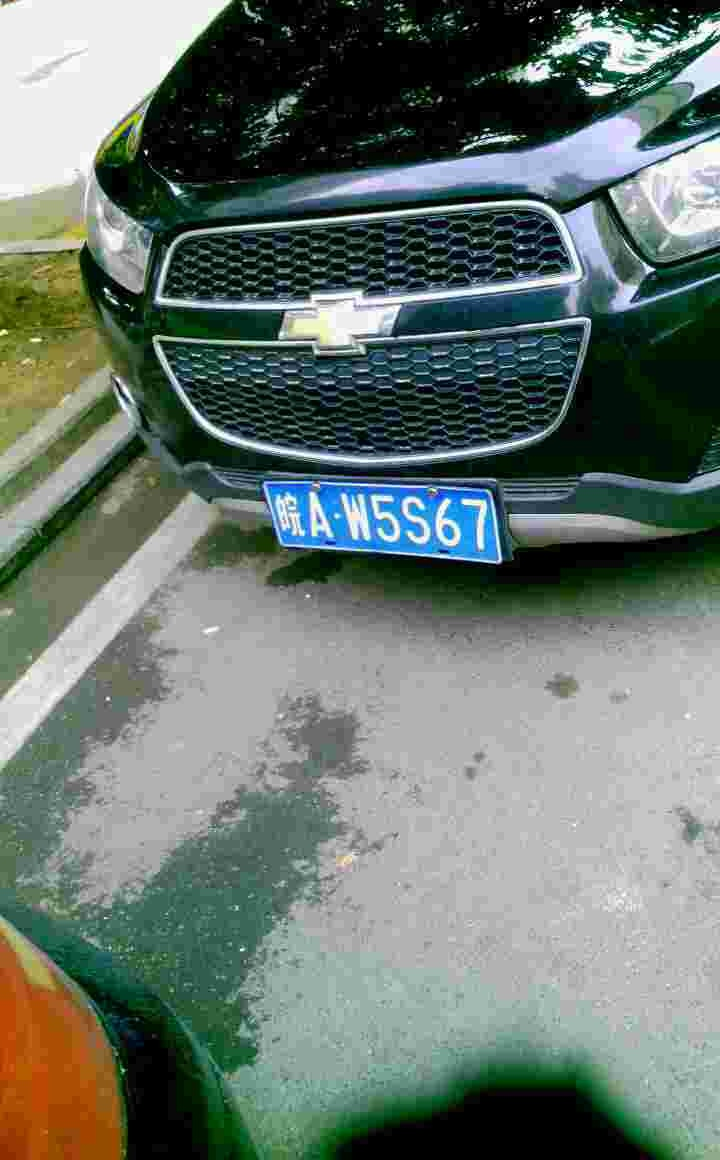license_plate: (279, 482, 506, 565)
